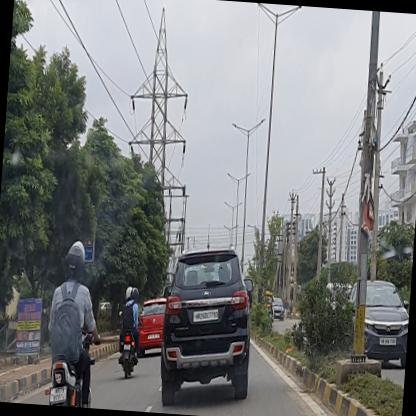car: (158, 242, 257, 414), (344, 281, 411, 370), (138, 298, 167, 358), (272, 295, 286, 320)
motorcycle: (44, 240, 110, 408), (114, 284, 143, 379)
